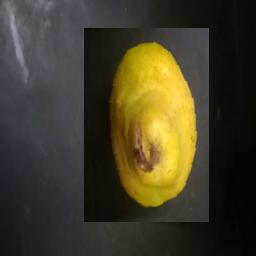Pear Fresh: (84, 28, 209, 222)
